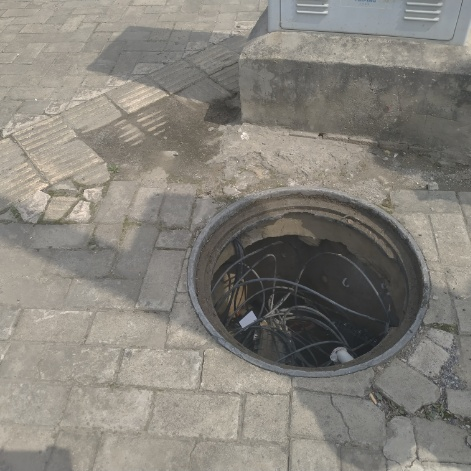lose: (186, 187, 432, 379)
